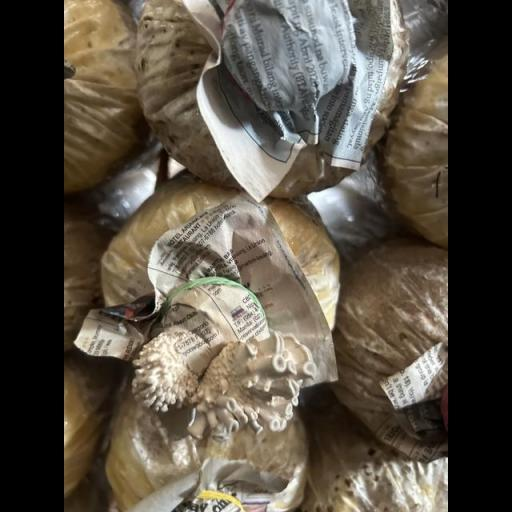White Oyster Mushroom: (122, 317, 327, 450)
